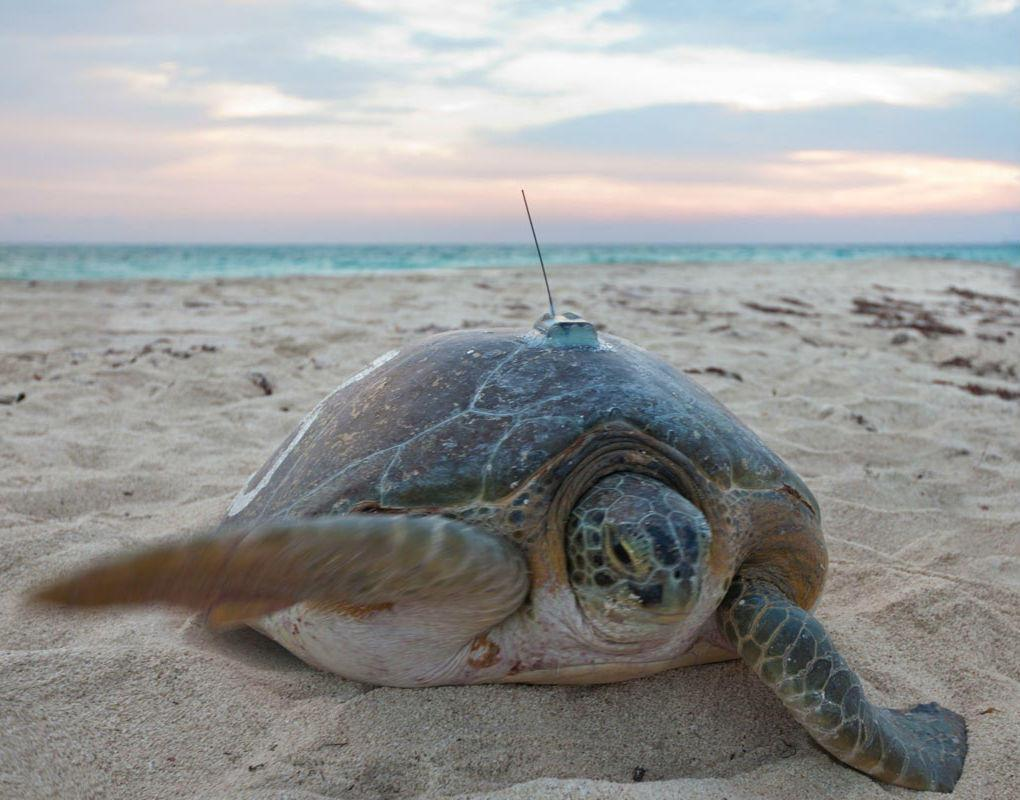turtle: (556, 463, 721, 652)
